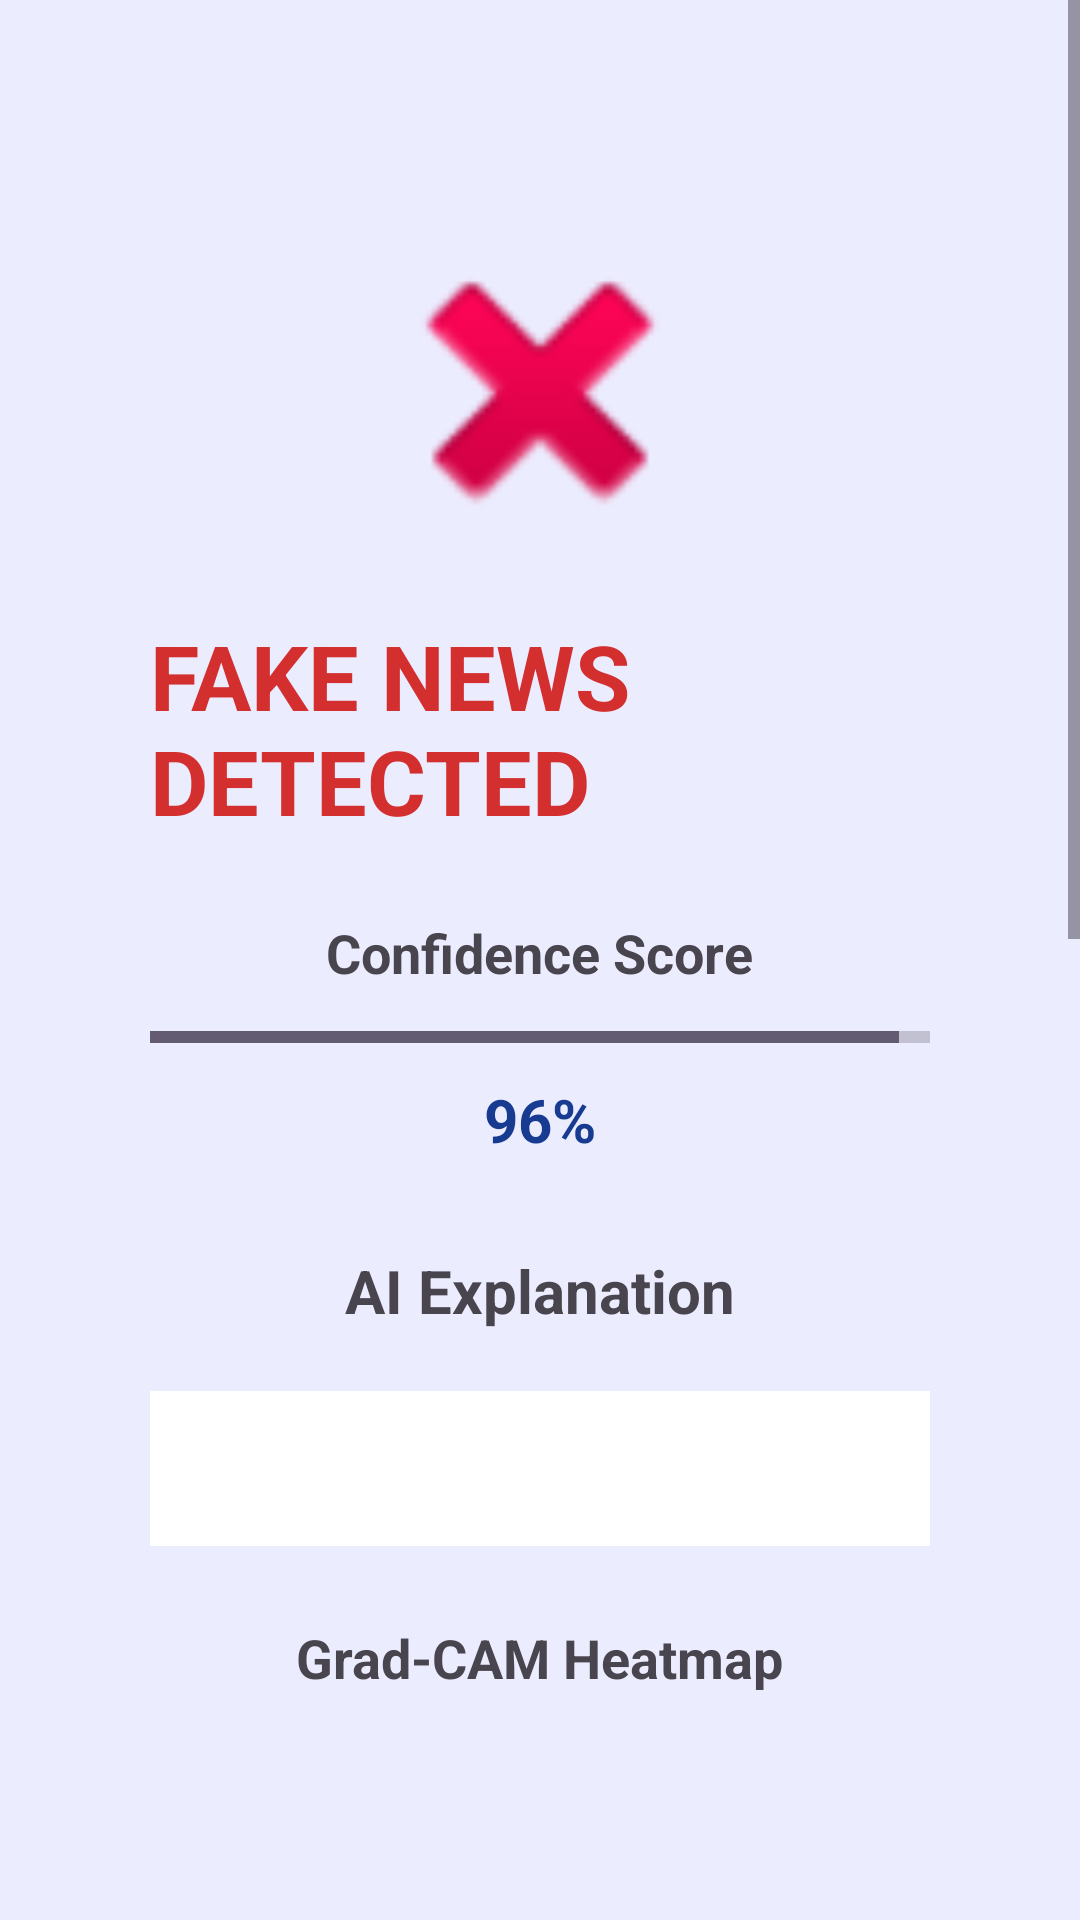

Named icons in this screenshot (1080px×1920px) and their bounding boxes, (x1=x1, y1=y1, x2=x2, y2=y2):
delete: (x1=425, y1=281, x2=655, y2=502)
